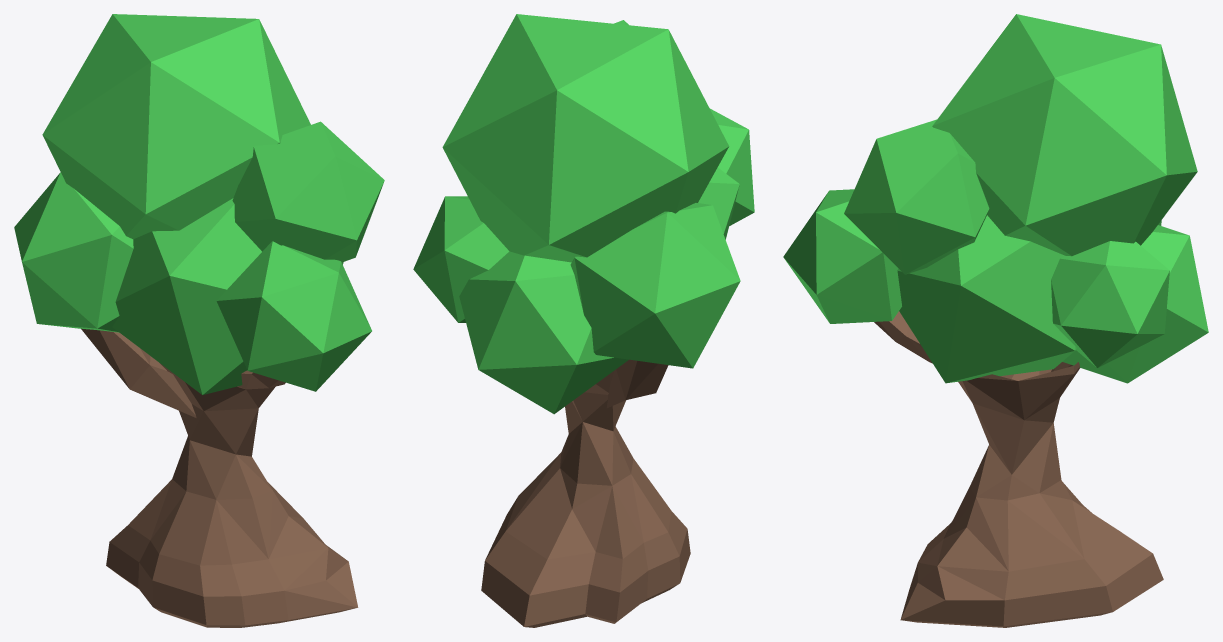
The model's file is big_oak_tree.glb.
3 views of the same model, side by side, from view 1: azimuth 30°, elevation 25°; view 2: azimuth 150°, elevation 25°; view 3: azimuth 270°, elevation 25° (orthographic). The views are drawn at different scales.
Visible parts, largest first — view 1: Icosphere.002, Plane; view 2: Icosphere.002, Plane; view 3: Icosphere.002, Plane.
Boxes of the visible parts, left/top/right/bottom form: Icosphere.002: left=14, top=14, right=384, bottom=394; Plane: left=81, top=328, right=358, bottom=627; Icosphere.002: left=413, top=14, right=754, bottom=414; Plane: left=481, top=359, right=690, bottom=627; Icosphere.002: left=783, top=14, right=1208, bottom=383; Plane: left=874, top=311, right=1163, bottom=627.
Size of the model in its own units: 6.72 by 12.53 by 8.78.
